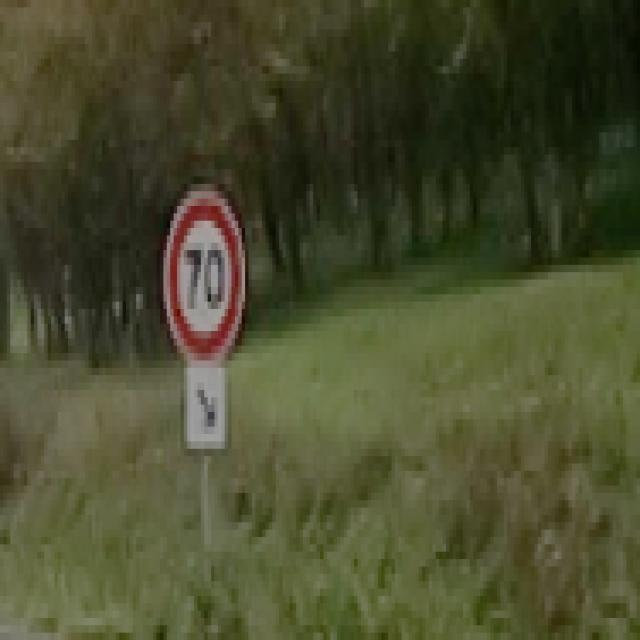speed_70: (162, 184, 248, 370)
